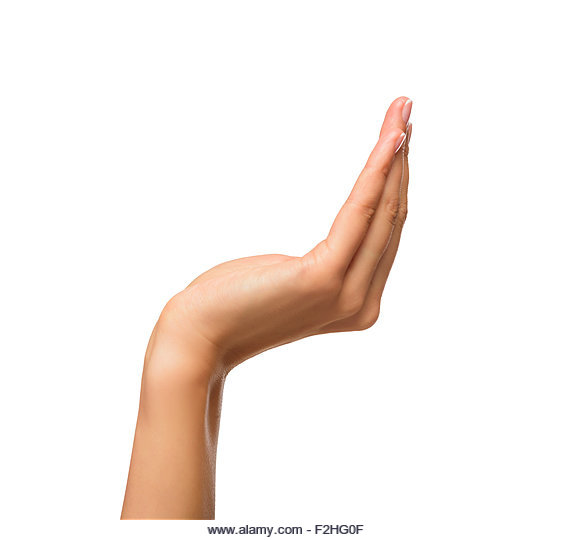non-diseased: (150, 79, 454, 372)
